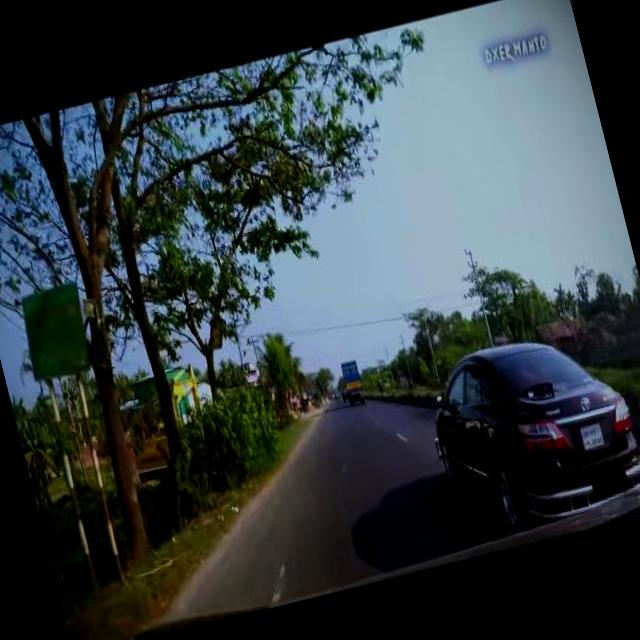car: (410, 308, 640, 548)
truck: (337, 355, 366, 406)
